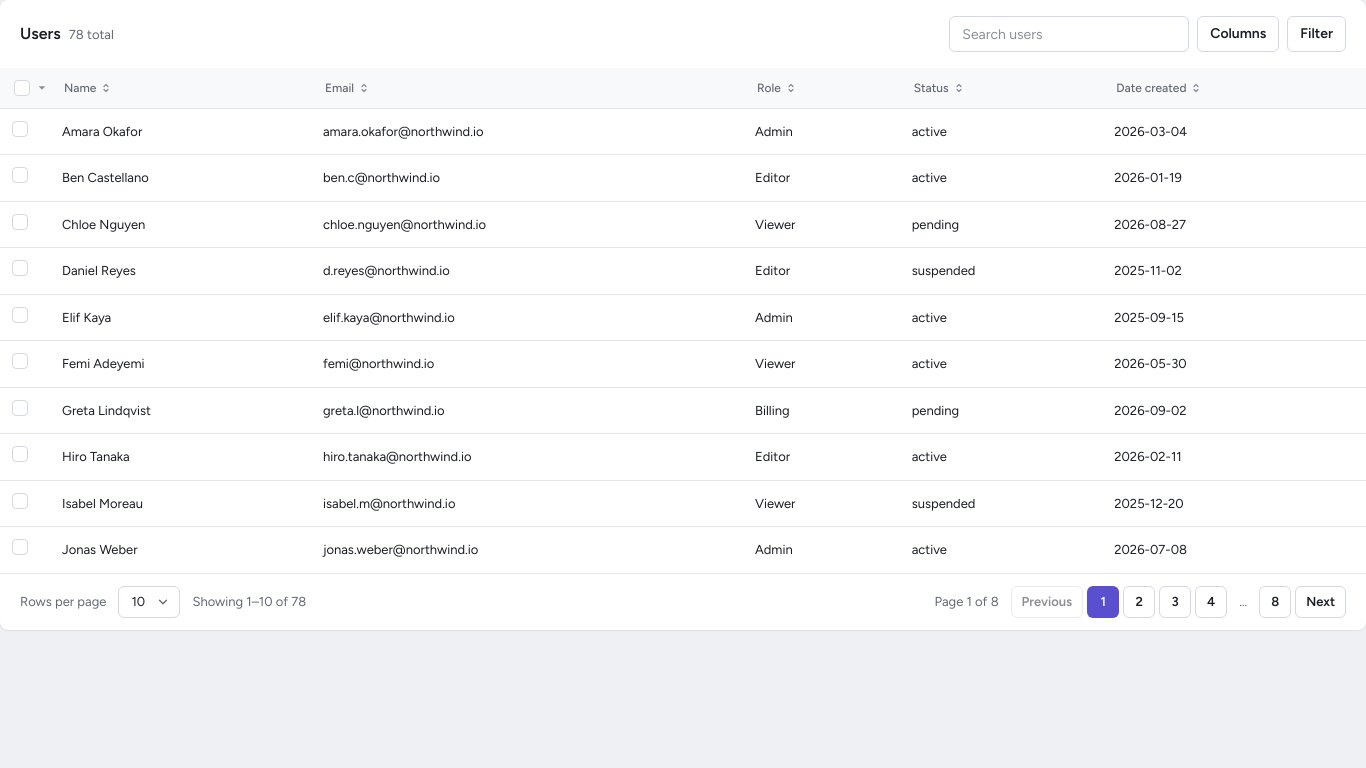
Scenario: DataTable · follow-ups › lets the user hide and show columns
The width and height of the screenshot is (1366, 768).
Expected: the column heading "Role" is shown, [743,68,900,108]
Click the button "Columns" at (1238, 34), box [1197,16,1279,52]
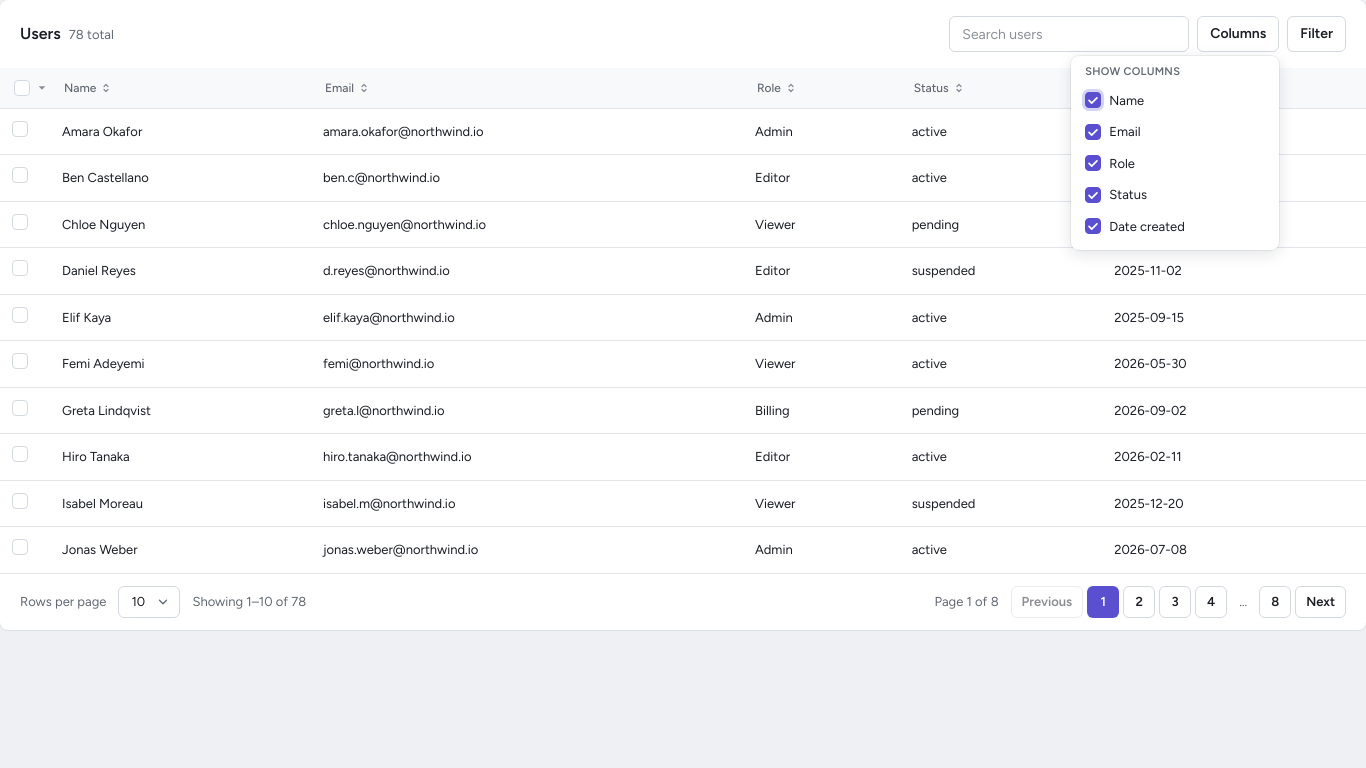
Click the checkbox labelled "Role" at (1093, 163), box [1085,155,1101,171]
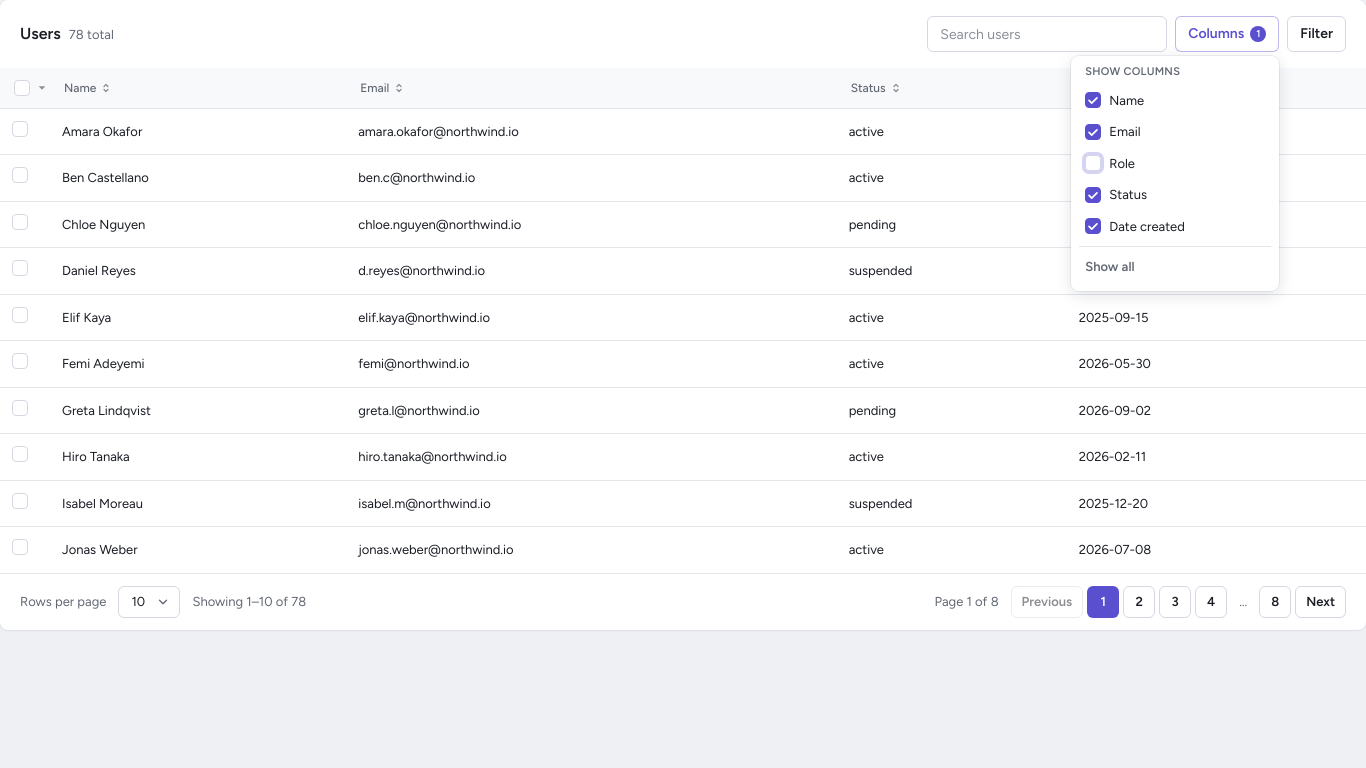
Result: the button "Columns 1" is shown at [1175,16,1279,52]
Click the button with aria-label "Show all columns" at (1175, 267), box [1079,251,1271,283]
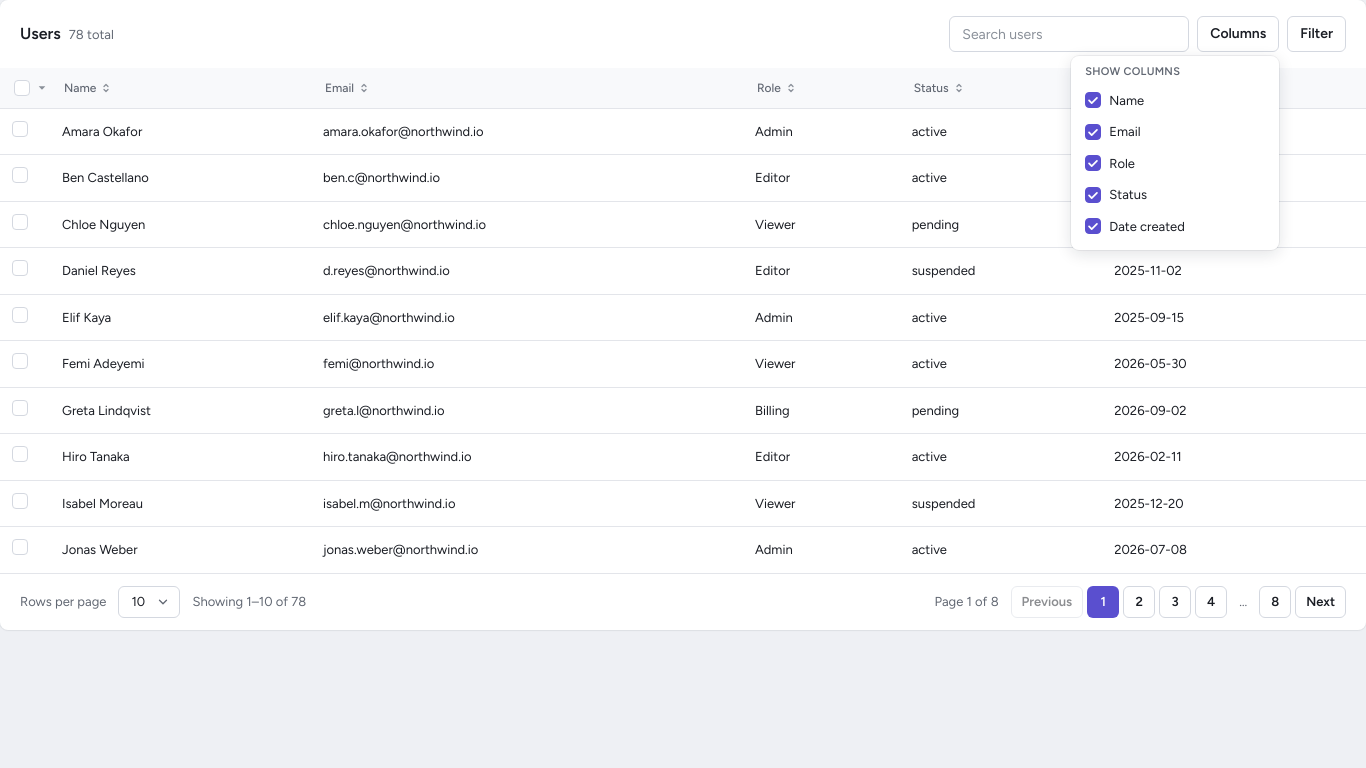
Result: the column heading "Role" is shown at [743,68,900,108]
